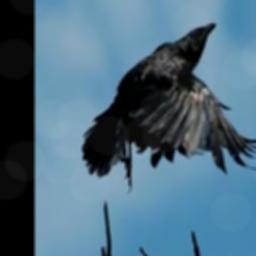Crow: (84, 18, 256, 194)
